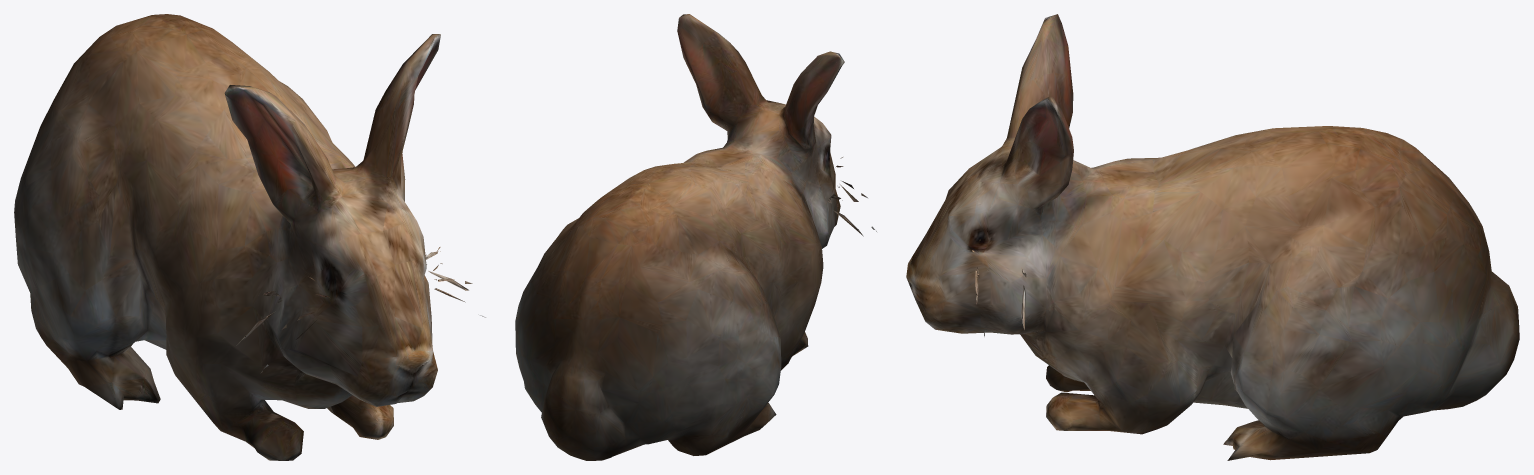
The model's file is hase.glb.
3 views of the same model, side by side, from view 1: azimuth 30°, elevation 25°; view 2: azimuth 150°, elevation 25°; view 3: azimuth 270°, elevation 25° (orthographic). The views are drawn at different scales.
Size of the model in its own units: 0.9966 by 1.28 by 1.99.
1 material, 1 textured.
